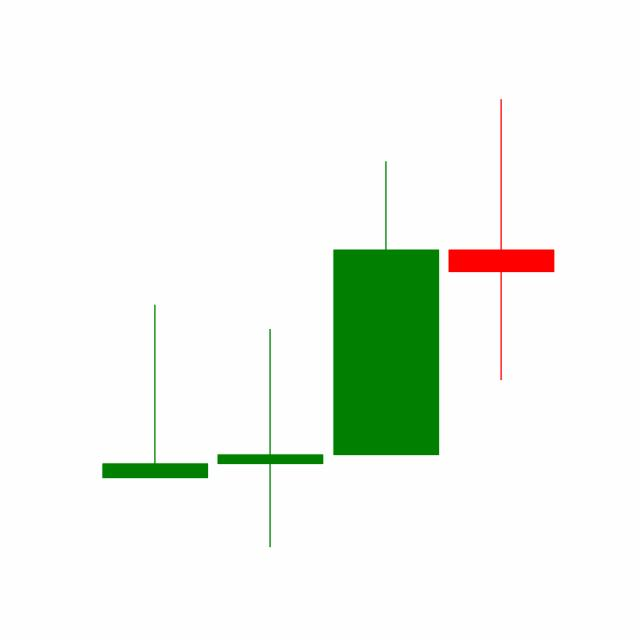Spinning Top: (443, 95, 559, 383)
